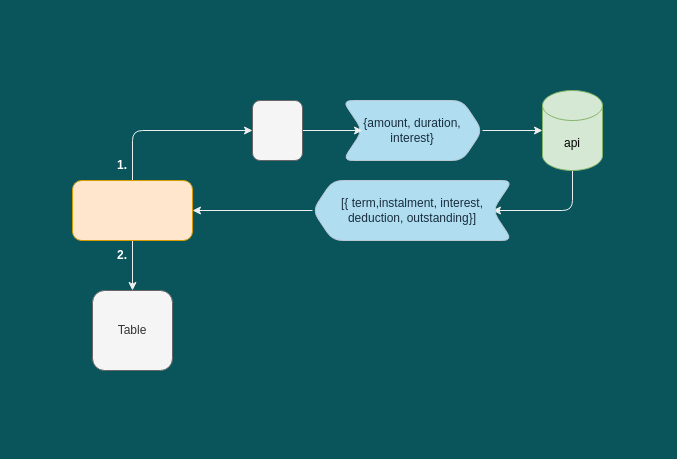
The diagram is 677 pixels wide and 459 high, and some of its shapes have lost their labels. The centre of each missing label's shape, as x and y in pixels:
Input form: point 277,130
Loan calculator app: point 132,210
